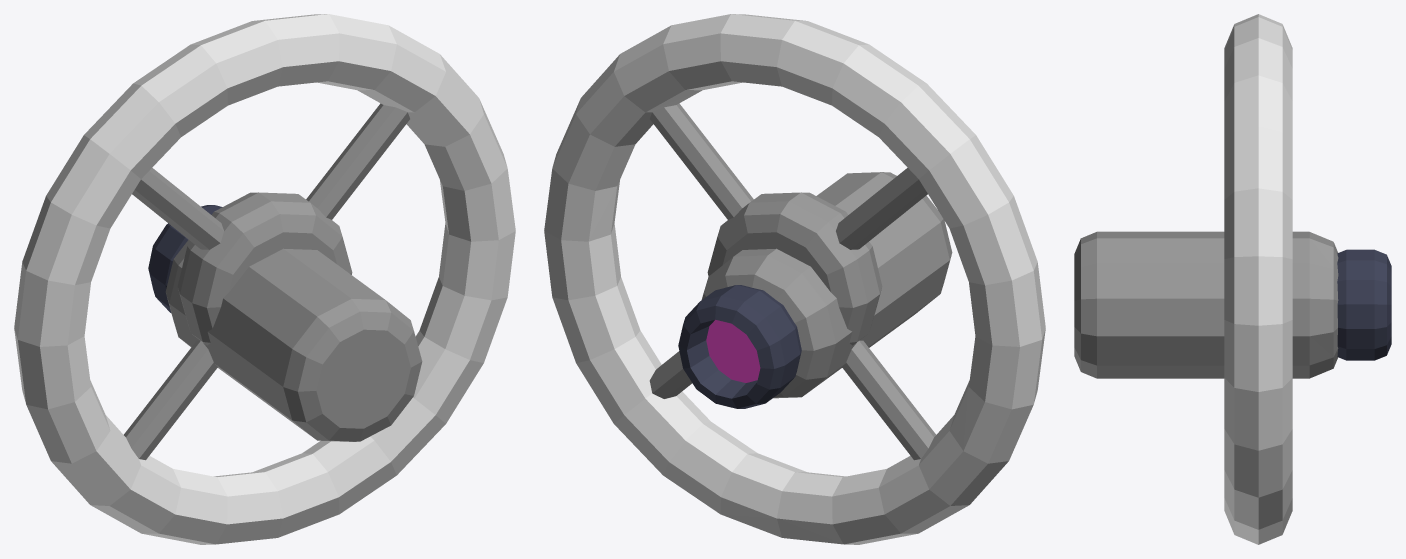
File: engine_ring.obj
3 renders of one model, left to right at view 1: azimuth 30°, elevation 25°; view 2: azimuth 150°, elevation 25°; view 3: azimuth 270°, elevation 25°, orthographic. The views are drawn at different scales.
Parts seen in each view (by area): view 1: ring, object 2; view 2: ring, object 2; view 3: ring, object 2.
Boxes of the visible parts, left/top/right/bottom form: ring: left=14, top=14, right=515, bottom=544; object 2: left=148, top=205, right=422, bottom=441; ring: left=544, top=14, right=1045, bottom=544; object 2: left=678, top=172, right=952, bottom=408; ring: left=1224, top=14, right=1292, bottom=544; object 2: left=1074, top=231, right=1391, bottom=378.
Bounding box in the file's own units: 1.88 × 1.88 × 1.12.
